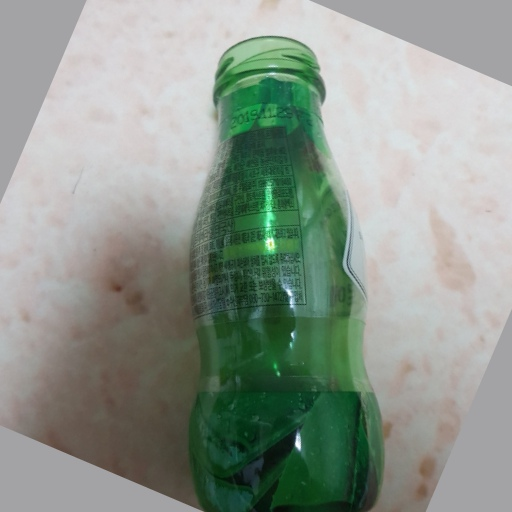Glass_4: (181, 34, 387, 512)
